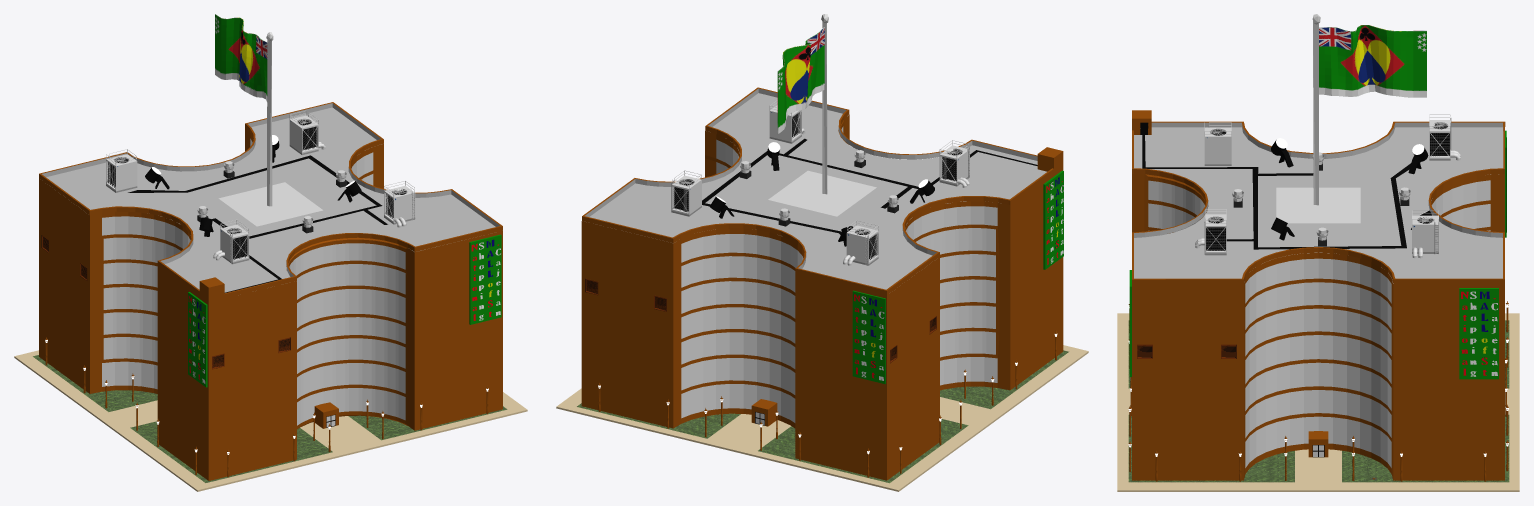
The model's file is Mall.glb.
3 renders of one model, left to right at view 1: azimuth 30°, elevation 25°; view 2: azimuth 150°, elevation 25°; view 3: azimuth 270°, elevation 25°, orthographic. The views are drawn at different scales.
Parts seen in each view (by area): view 1: Walls, Ground, Stair Exit and Parapets, Cooling Towers, Sign, Flag, Posts, Flagpole, Spotlights, PRVUs, Louvers, Entries; view 2: Walls, Ground, Stair Exit and Parapets, Sign, Cooling Towers, Flag, Posts, Spotlights, Flagpole, PRVUs, Louvers, Entries; view 3: Walls, Ground, Stair Exit and Parapets, Flag, Cooling Towers, Sign, Posts, Flagpole, Spotlights, PRVUs, Entries, Louvers.
Part boxes in pixels (x1,y1,x2,y2): Walls: (39, 107, 502, 480); Ground: (14, 350, 527, 491); Stair Exit and Parapets: (39, 102, 502, 302); Cooling Towers: (106, 110, 415, 264); Sign: (188, 234, 501, 387); Flag: (215, 14, 267, 101); Posts: (45, 337, 488, 477); Flagpole: (266, 32, 273, 206); Spotlights: (145, 135, 361, 236); PRVUs: (197, 161, 346, 233); Louvers: (42, 235, 290, 369); Entries: (314, 402, 338, 428); Walls: (581, 93, 1063, 480); Ground: (556, 345, 1088, 491); Stair Exit and Parapets: (582, 87, 1063, 295); Sign: (852, 170, 1063, 383); Cooling Towers: (671, 100, 969, 265); Flag: (777, 27, 824, 133); Posts: (598, 331, 1057, 477); Spotlights: (709, 142, 934, 246); Flagpole: (821, 14, 828, 194); PRVUs: (739, 150, 898, 226); Louvers: (585, 278, 936, 363); Entries: (751, 399, 777, 426); Walls: (1132, 127, 1504, 480); Ground: (1117, 313, 1519, 491); Stair Exit and Parapets: (1132, 110, 1505, 284); Flag: (1319, 25, 1426, 97); Cooling Towers: (1195, 114, 1460, 258); Sign: (1129, 130, 1506, 379); Posts: (1128, 301, 1508, 481); Flagpole: (1312, 14, 1320, 205); Spotlights: (1271, 138, 1431, 240); PRVUs: (1232, 152, 1410, 246); Entries: (1308, 431, 1328, 457); Louvers: (1137, 344, 1236, 358).
Size of what is drawn, in the model's own units: 64.1 by 65.61 by 61.62.
31 materials, 2 textured.
